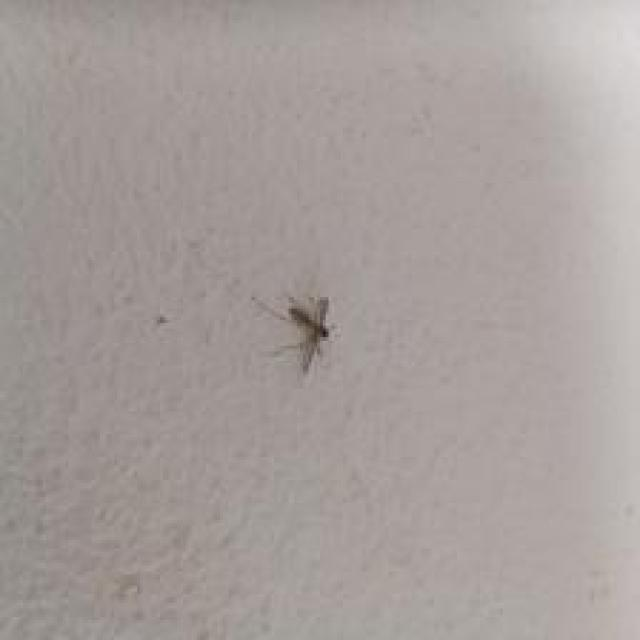Culex: (252, 292, 337, 374)
